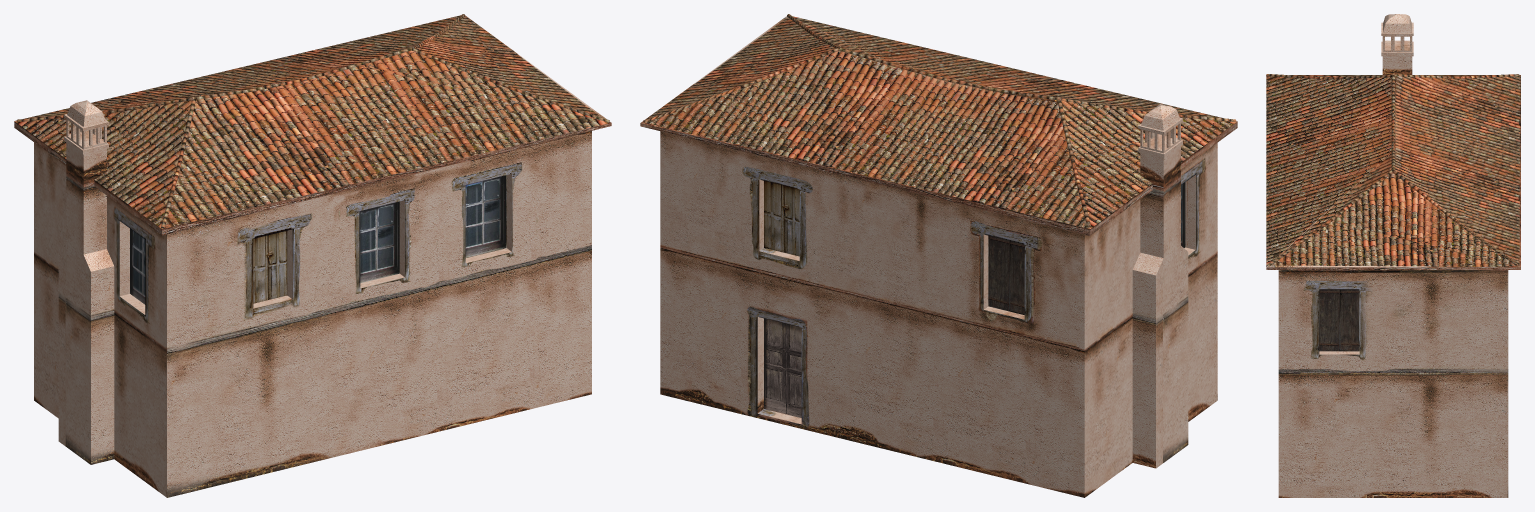
The model's file is ottoman1c.fbx.
3 views of the same model, side by side, from view 1: azimuth 30°, elevation 25°; view 2: azimuth 150°, elevation 25°; view 3: azimuth 270°, elevation 25° (orthographic). The views are drawn at different scales.
Parts seen in each view (by area): view 1: Group1; view 2: Group1; view 3: Group1.
Boxes of the visible parts, bbox=[...] form: Group1: bbox=[14, 14, 611, 497]; Group1: bbox=[640, 14, 1237, 497]; Group1: bbox=[1266, 14, 1520, 497].
Size of the model in its own units: 2775 by 1999 by 1537.
